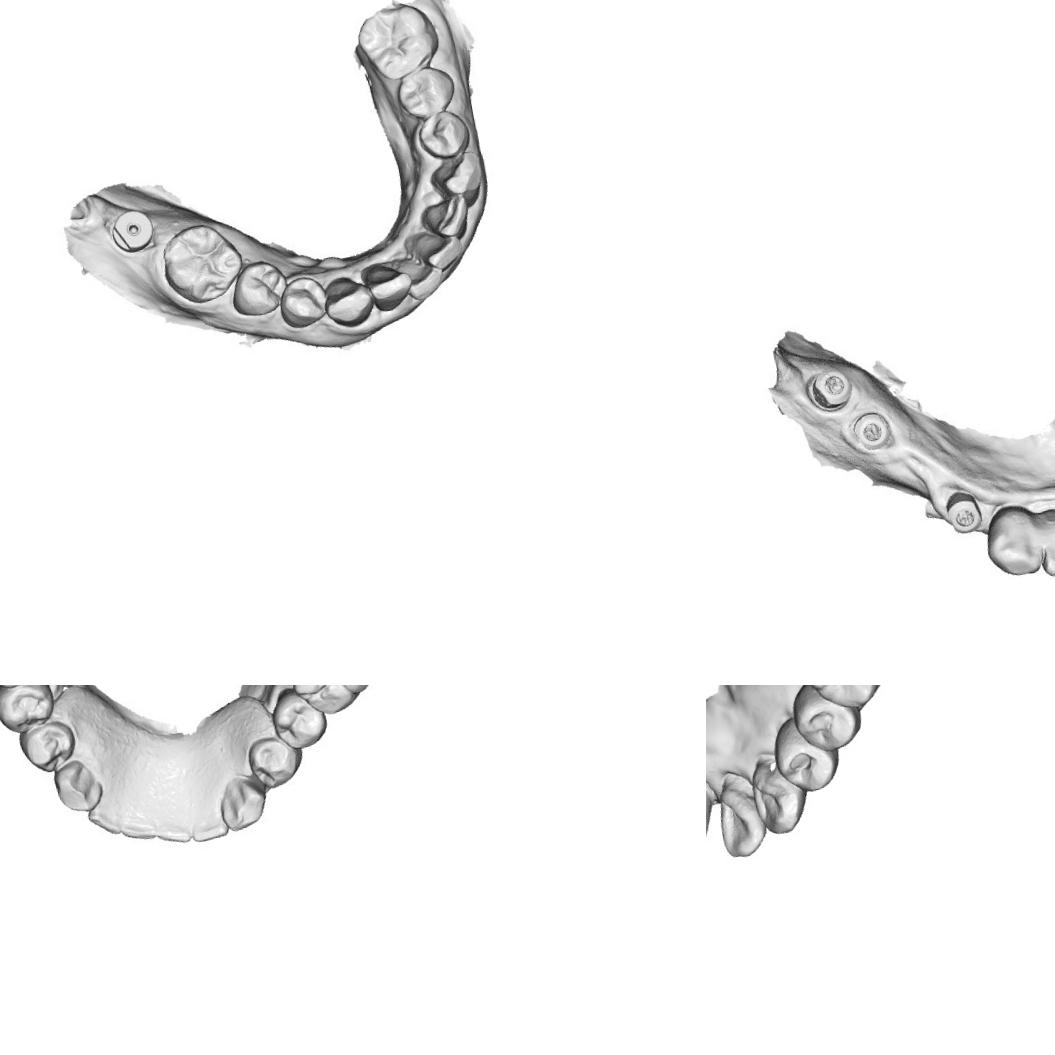canine: (978, 500, 1048, 586), (748, 759, 807, 839), (426, 148, 492, 211), (320, 270, 377, 330), (50, 756, 105, 814), (217, 775, 272, 833)
crown: (706, 773, 720, 852)
implant: (106, 202, 162, 263), (797, 362, 858, 414), (938, 484, 986, 538), (846, 412, 896, 454)
incisor: (708, 769, 768, 861), (362, 256, 414, 316), (422, 193, 476, 244), (408, 228, 461, 274), (398, 253, 447, 302), (182, 812, 234, 850), (146, 816, 194, 854), (85, 800, 130, 839), (119, 809, 161, 848), (1033, 516, 1055, 579)
molar: (154, 214, 250, 310), (346, 0, 444, 83), (793, 685, 889, 717), (286, 685, 377, 714)
premolar: (767, 710, 844, 798), (787, 685, 867, 756), (388, 62, 458, 120), (413, 106, 479, 164), (20, 720, 78, 771), (0, 685, 58, 735), (232, 264, 290, 312), (248, 735, 300, 788), (273, 693, 322, 749), (278, 275, 329, 327)
